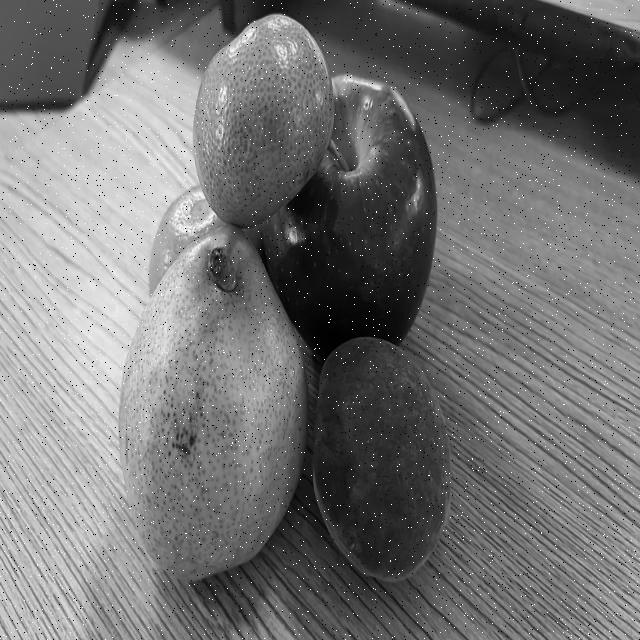Apel Merah: (308, 77, 440, 340)
Jeruk Mandarin: (192, 8, 336, 219), (148, 174, 264, 284)
Persik: (310, 332, 458, 590)
Pir: (115, 229, 311, 592)
